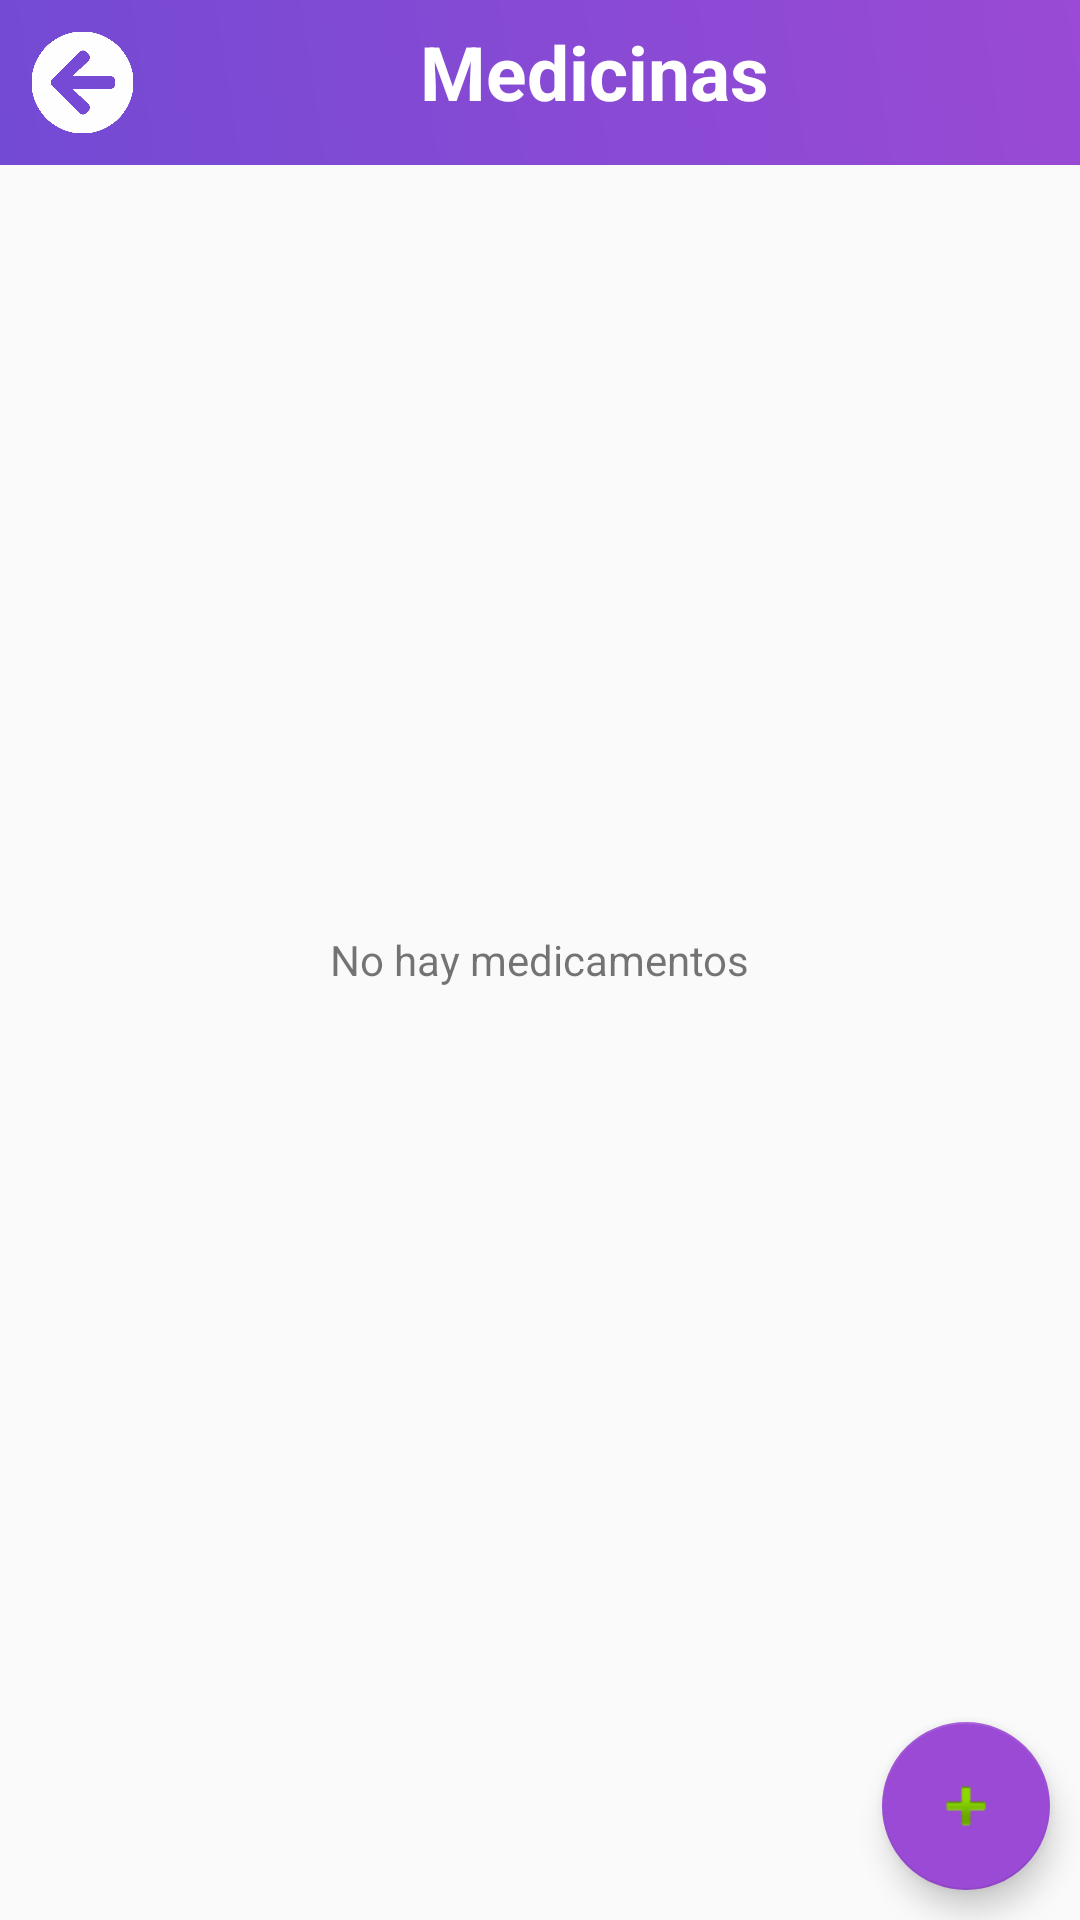

Where to tap for icons on this 1080w x 1920h app screen, as point (x, y):
add: point (966, 1806)
left arrow: point (82, 82)
